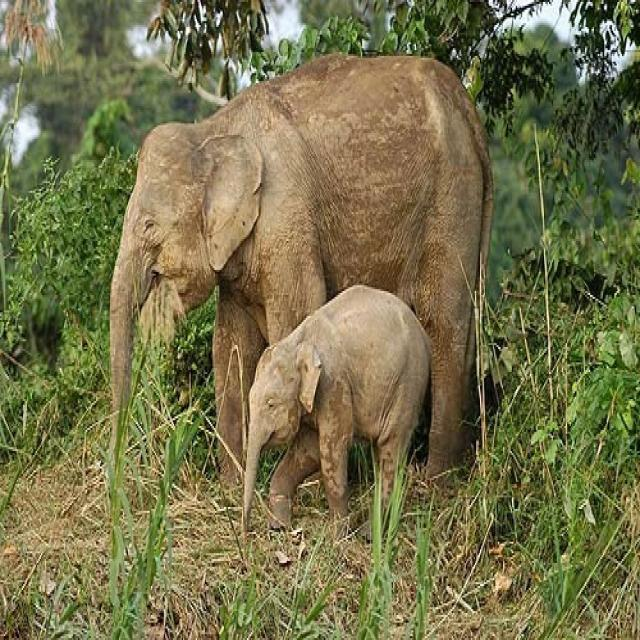Elephant: (105, 49, 495, 542), (245, 278, 435, 527)
